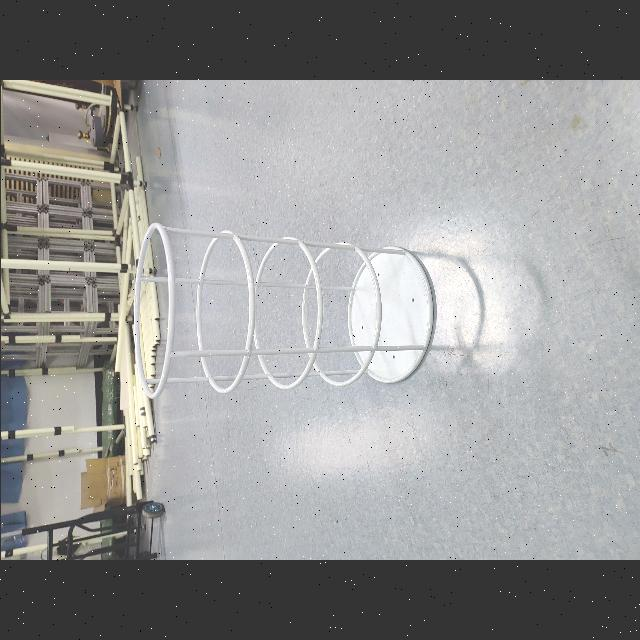S: (127, 220, 439, 402)
